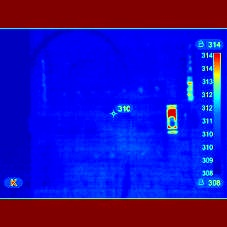Less: (169, 118, 177, 127)
